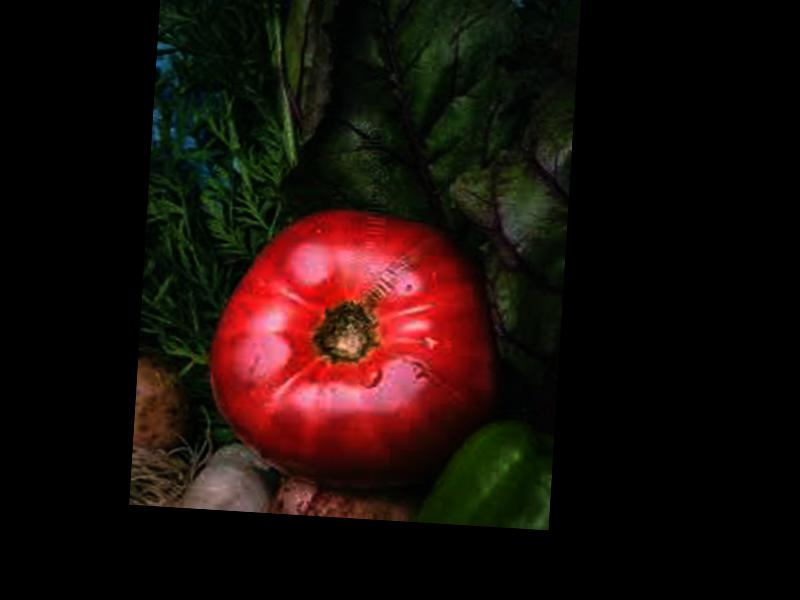Tomato: (202, 202, 514, 501)
